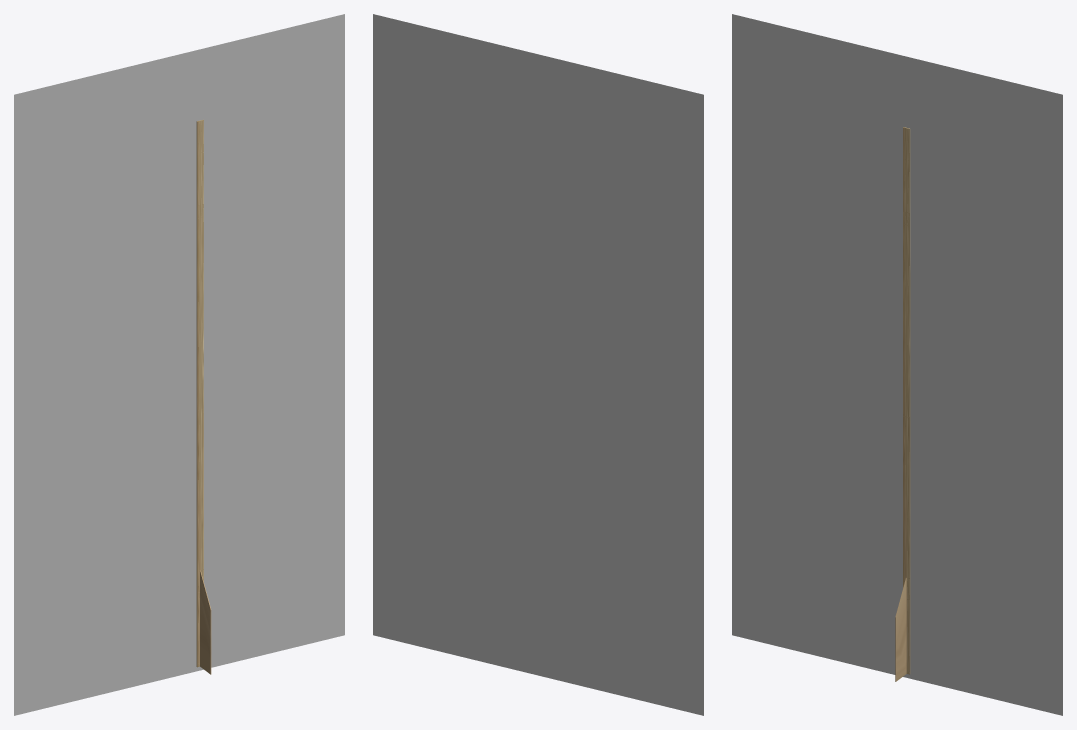
Rendered from Cutout-Tree (1).fbx.
The picture shows the model from 3 angles, left to right: view 1: azimuth 30°, elevation 25°; view 2: azimuth 150°, elevation 25°; view 3: azimuth 330°, elevation 25°; orthographic projection.
Parts seen in each view (by area): view 1: polySurface9; view 2: polySurface9; view 3: polySurface9.
Boxes of the visible parts, x1=… form: polySurface9: x1=14, y1=14, x2=344, y2=715; polySurface9: x1=373, y1=14, x2=703, y2=715; polySurface9: x1=732, y1=14, x2=1062, y2=715.
Size of the model in its own units: 6.9 by 12.38 by 0.6038.
